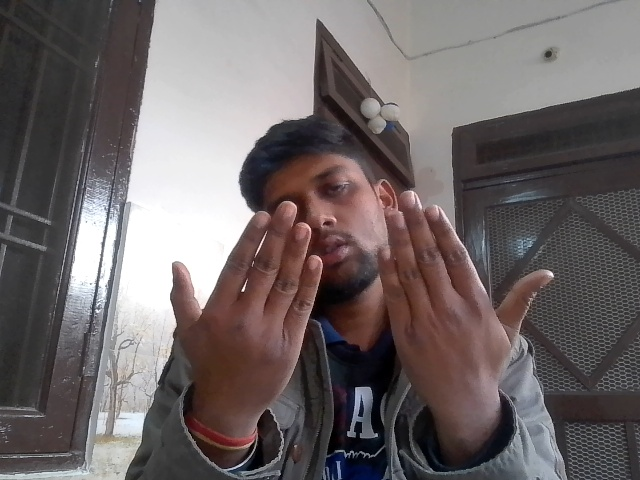ThankYou: (143, 188, 562, 435)
